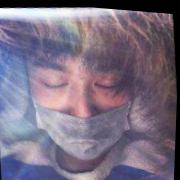WRONG: (29, 36, 140, 164)
